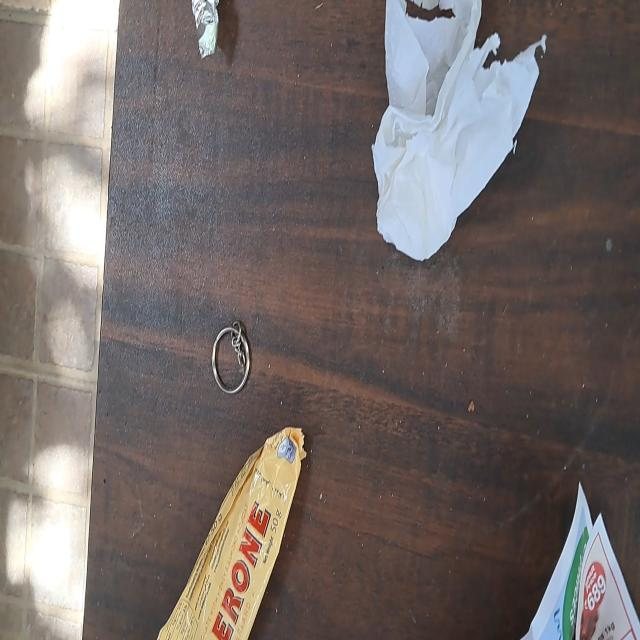Anorganik: (159, 428, 321, 640), (212, 318, 252, 398)
Organik: (372, 2, 548, 262), (522, 482, 640, 640)
